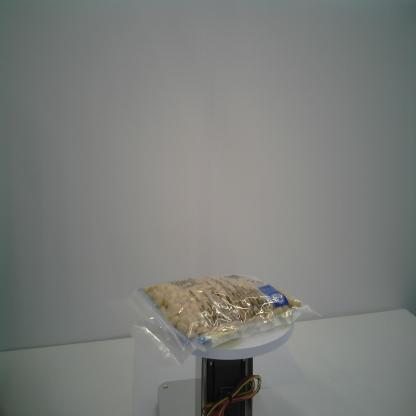Dried Fruit: (128, 272, 321, 368)
